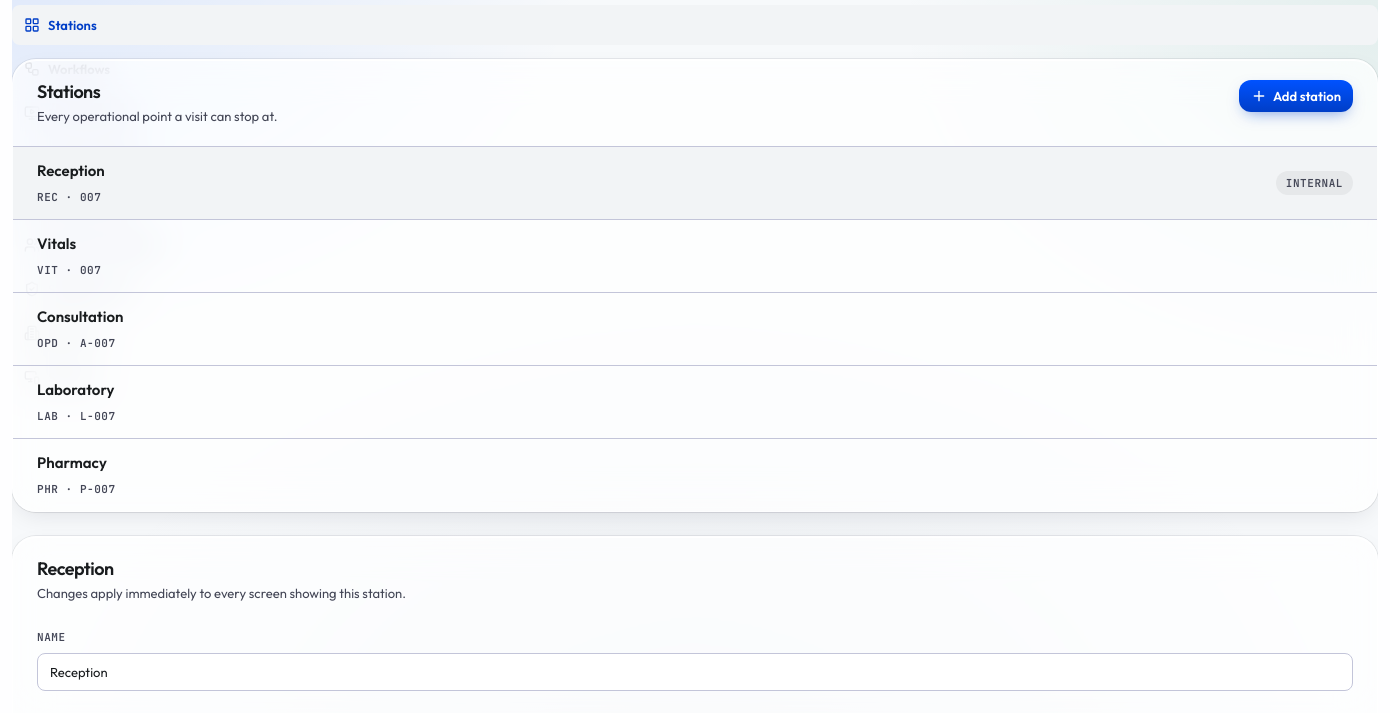
Administration Portal › surfaces warnings without blocking the save
(page scrolled)
Click the button "Consultation OPD · A-007".
click(80, 316)  # box [13, 293, 1377, 365]
(page scrolled)
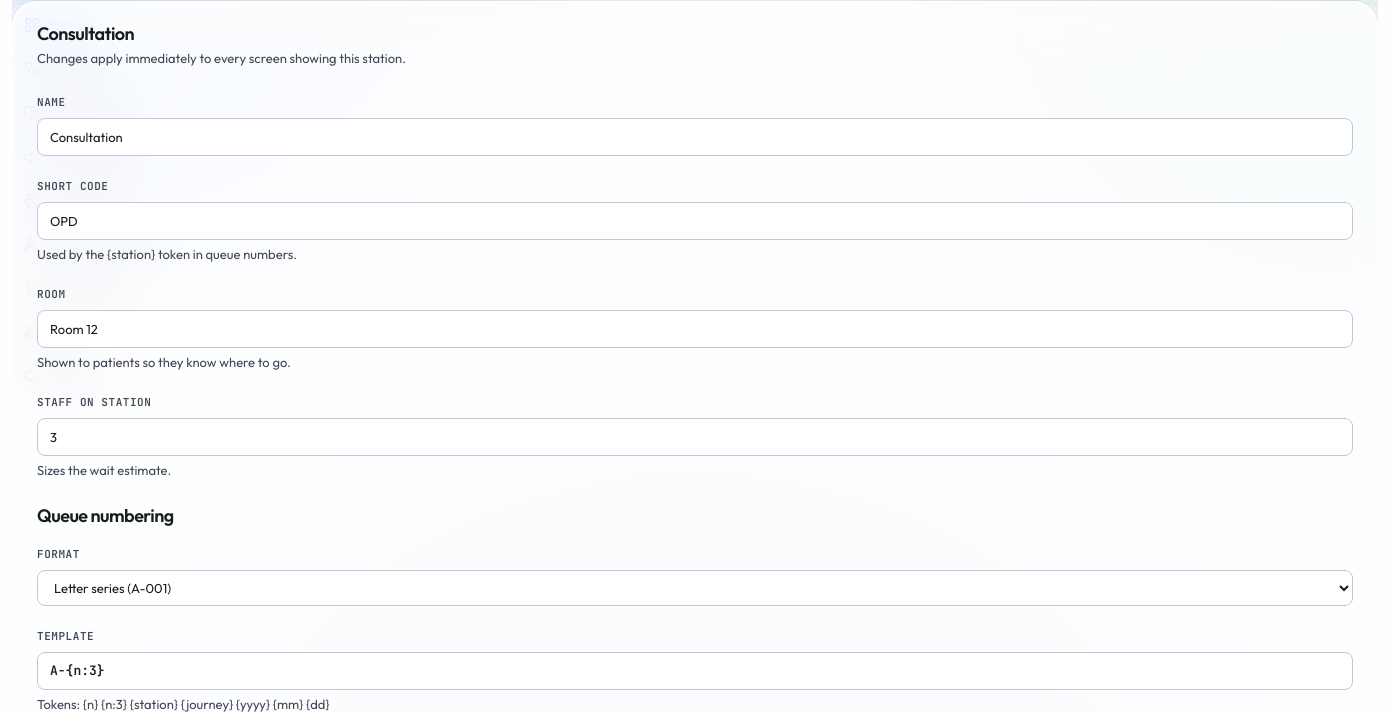
Clear the field showing "Room 12" at (695, 329), box [37, 310, 1353, 348]
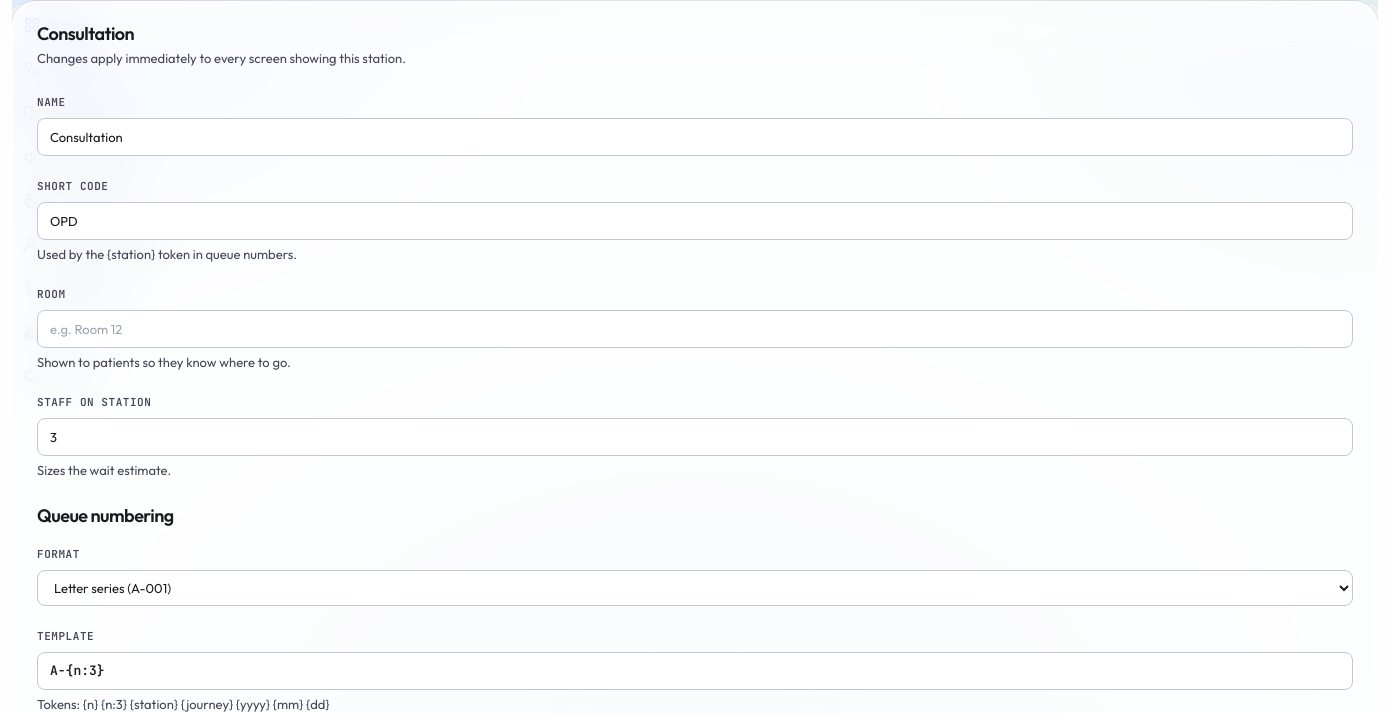
Leave the field showing "Room 12", box [37, 310, 1353, 348]
(page scrolled)
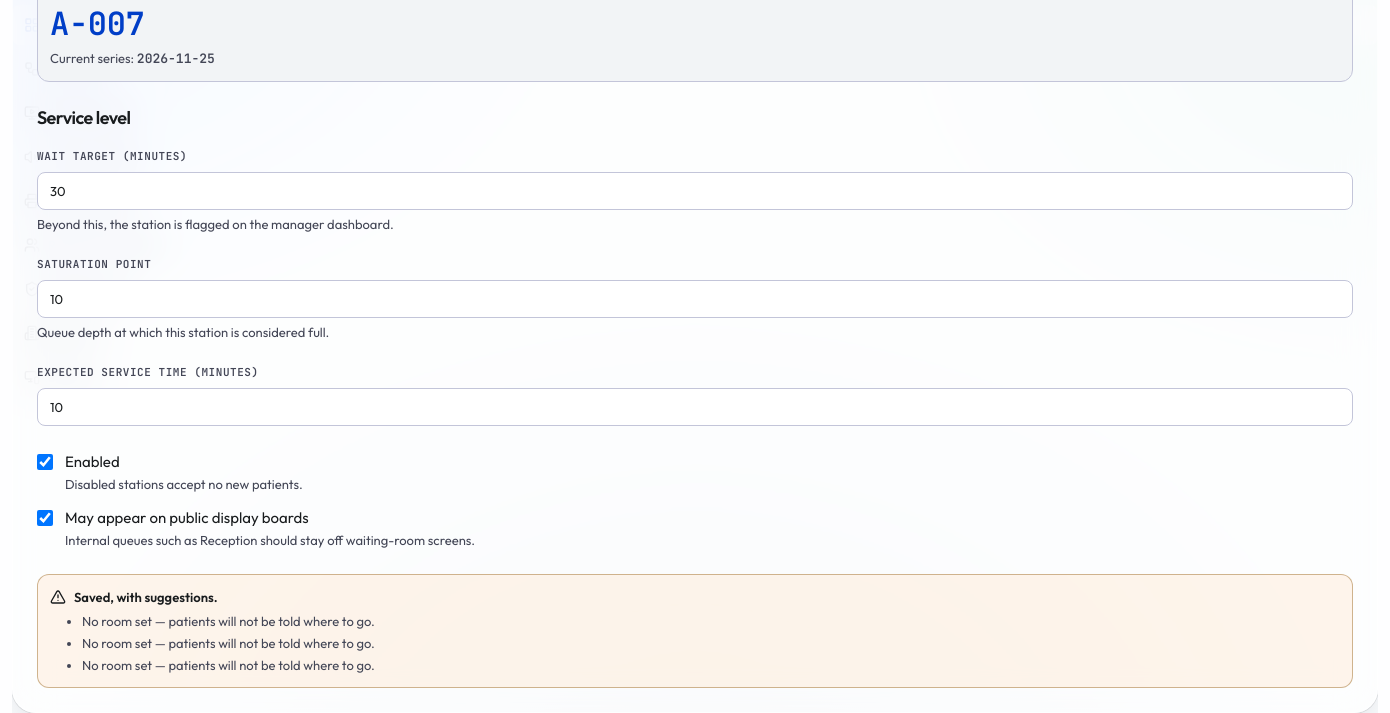
Now the message shows "suggestions", box [74, 589, 218, 605]
